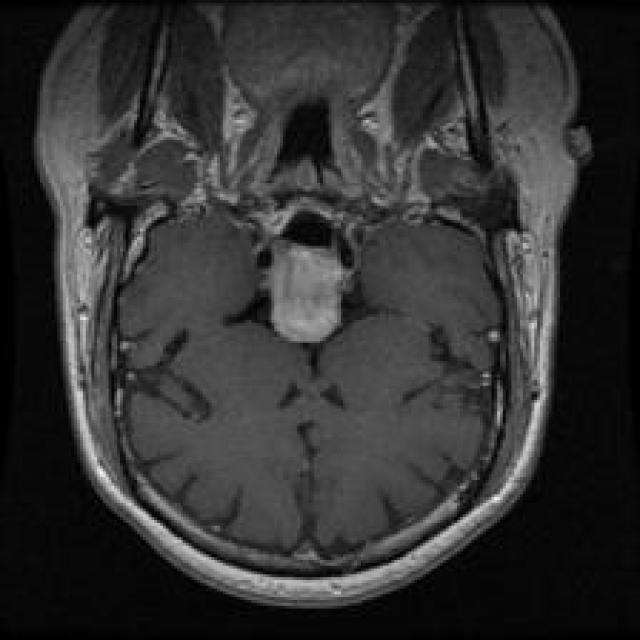pituitary_tumor: (253, 232, 370, 360)
